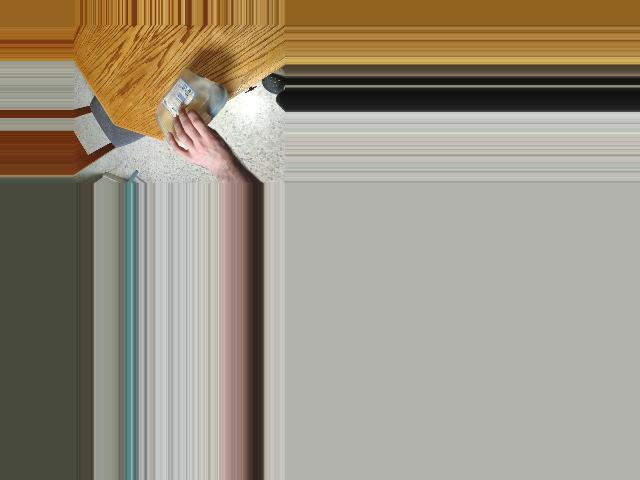cheese: (153, 66, 226, 156)
